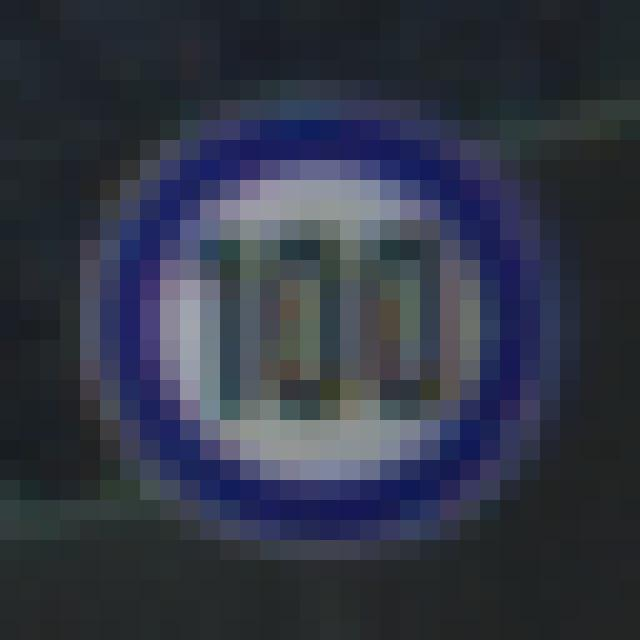SPEED LIMIT 100: (85, 103, 561, 560)
